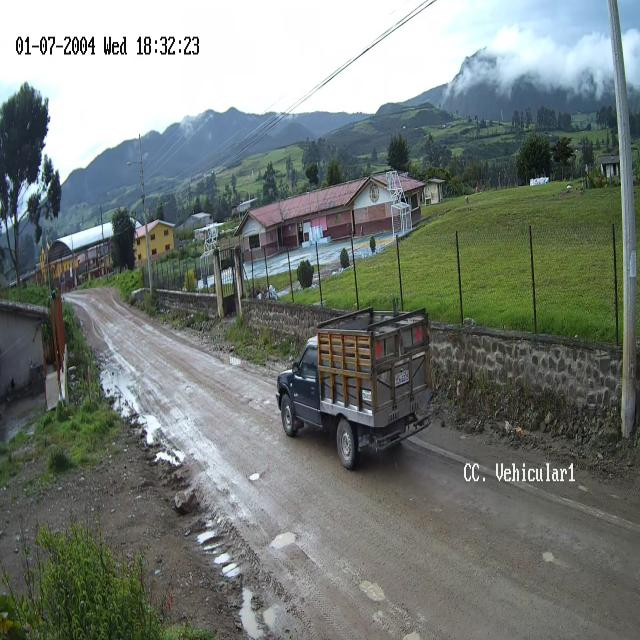CMT: (276, 308, 434, 472)
